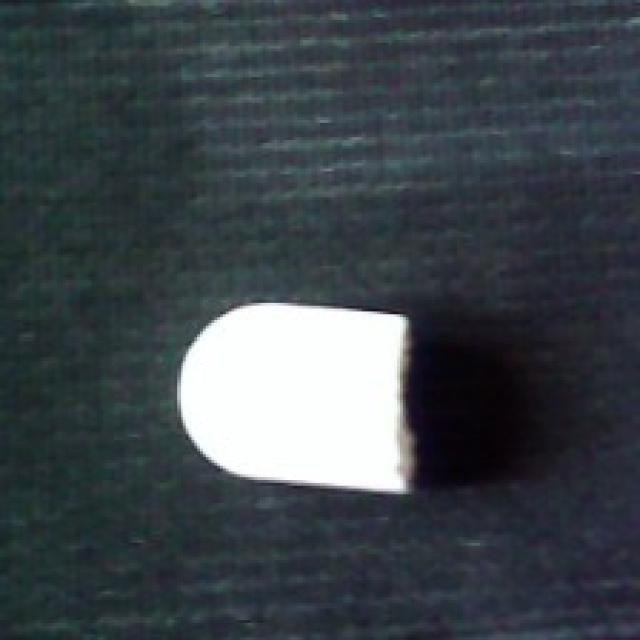defected: (168, 289, 428, 497)
